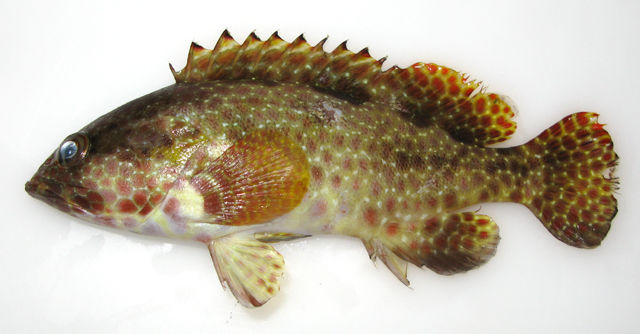fish: (25, 27, 621, 309)
